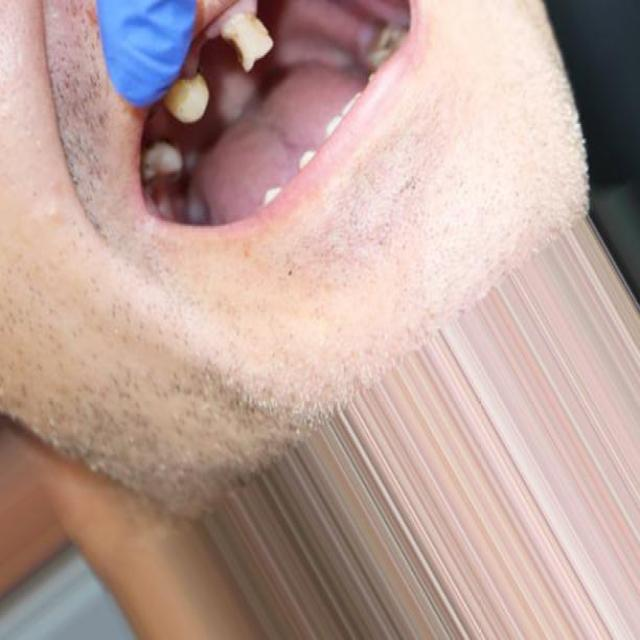caries: (225, 6, 278, 79)
